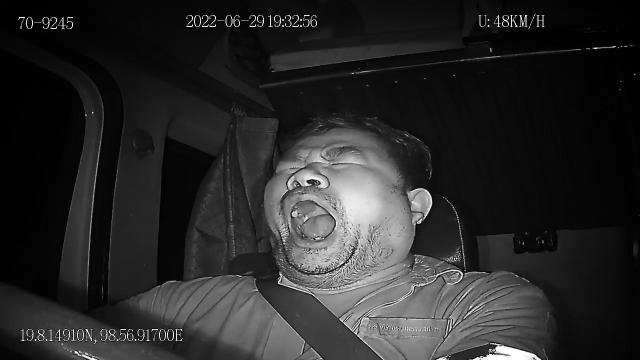Seatbelt: (254, 276, 386, 360)
